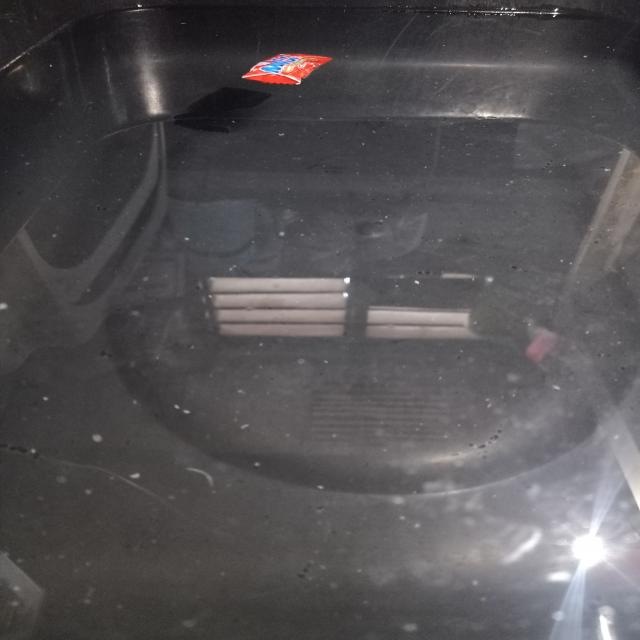Plastic Wrapper: (242, 54, 332, 84)
